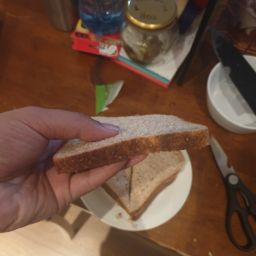Breads: (49, 104, 213, 216), (41, 145, 206, 216)
